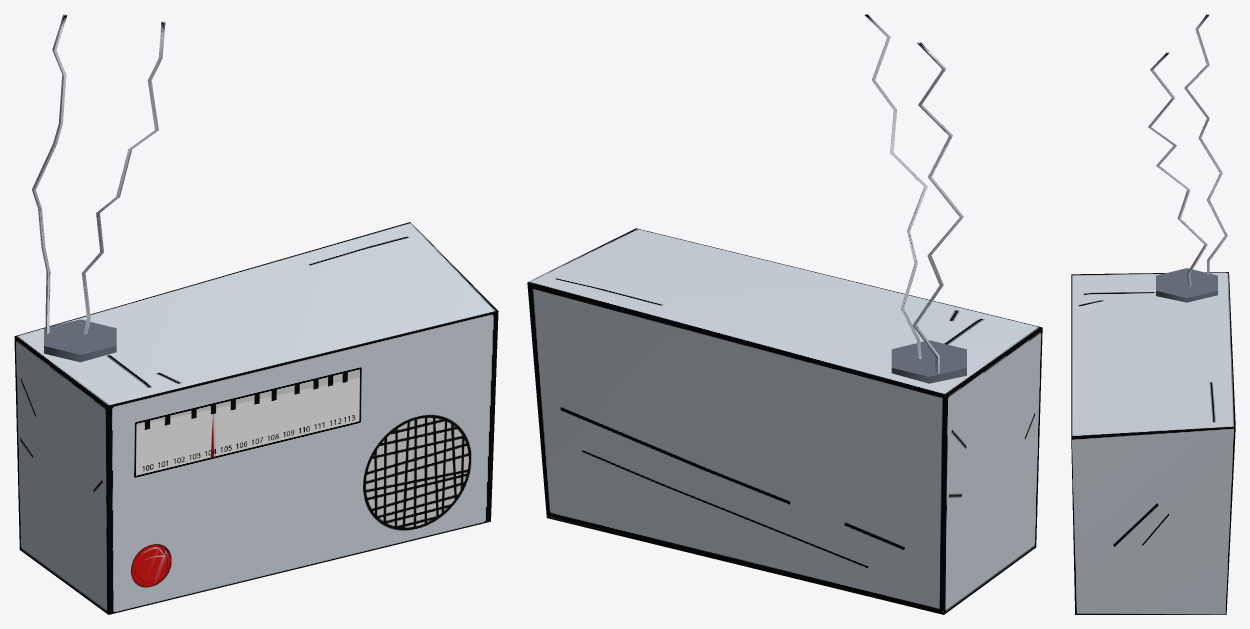
The model's file is radio.FBX.
The picture shows the model from 3 angles, left to right: view 1: azimuth 30°, elevation 25°; view 2: azimuth 150°, elevation 25°; view 3: azimuth 270°, elevation 25°; orthographic projection. The views are drawn at different scales.
Parts seen in each view (by area): view 1: Box005; view 2: Box005; view 3: Box005.
Boxes of the visible parts, x1,y1,x2,y2 form: Box005: (14,14,498,614); Box005: (527,14,1042,614); Box005: (1071,14,1235,614).
Size of the model in its own units: 15.36 by 19.63 by 6.42.
1 material, 1 textured.
